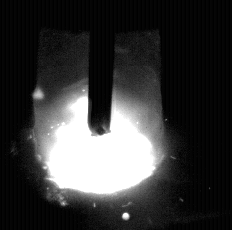arame: (89, 0, 112, 135)
poca: (34, 0, 167, 230)
